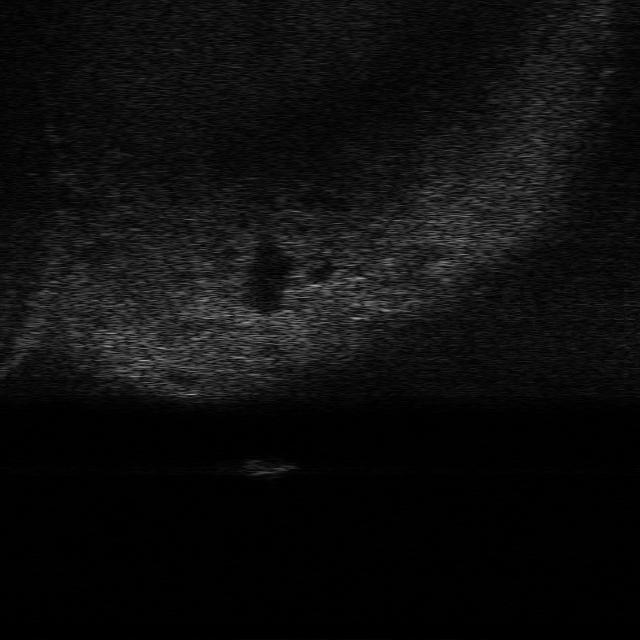cube: (242, 456, 302, 477)
